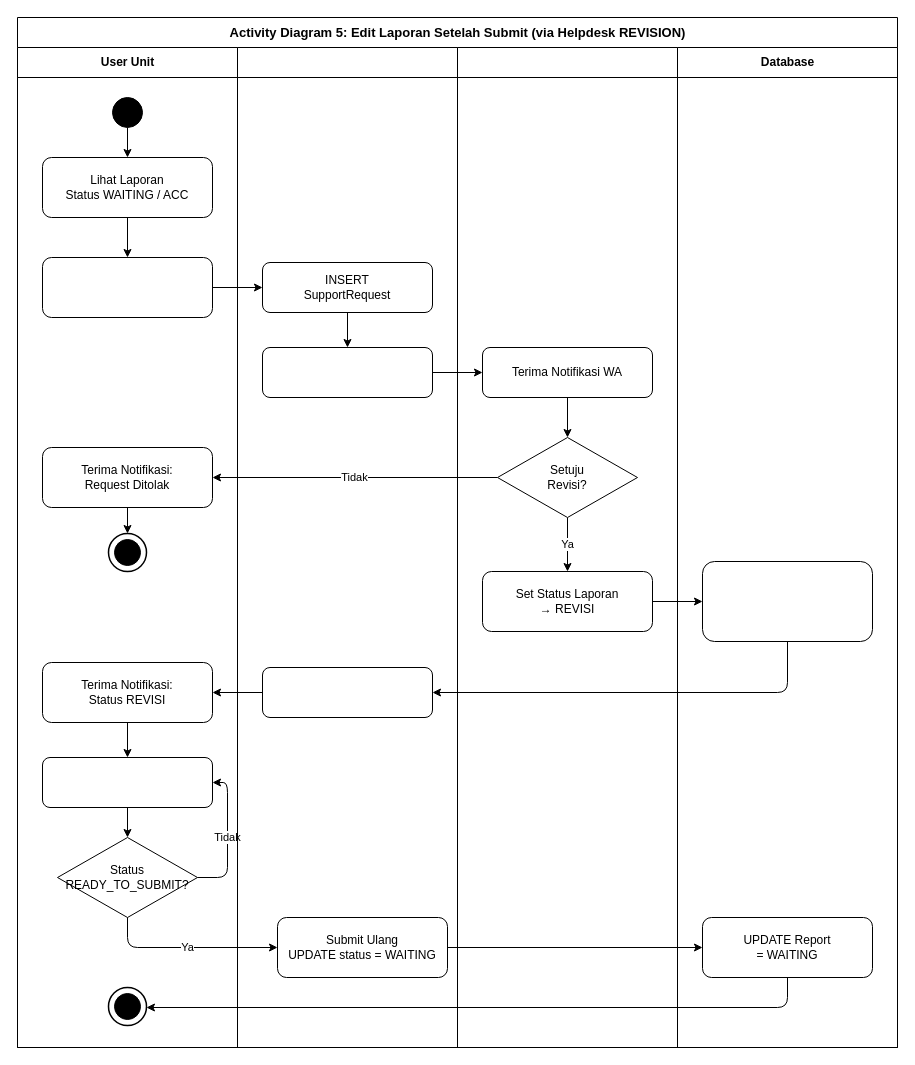
The diagram is 915 pixels wide and 1065 high, and some of its shapes have lost their labels. Here are the shapes that lost their labels. From the top down, the box of each, then its label:
(42, 256, 212, 318): Ajukan Helpdesk Jenis REVISION
(262, 346, 432, 398): Kirim Notifikasi WA ke Admin Global
(236, 46, 458, 1048): Sistem
(456, 46, 678, 1048): Admin Global
(702, 560, 872, 642): UPDATE Report = REVISI UPDATE SupportRequest = RESOLVED
(262, 666, 432, 718): EMIT Realtime ke User Unit
(42, 756, 212, 808): Edit Laporan
